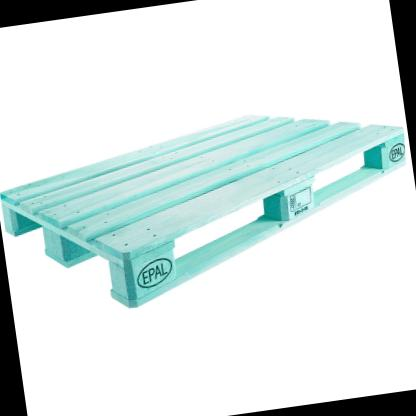BoxFace: (0, 110, 407, 314)
